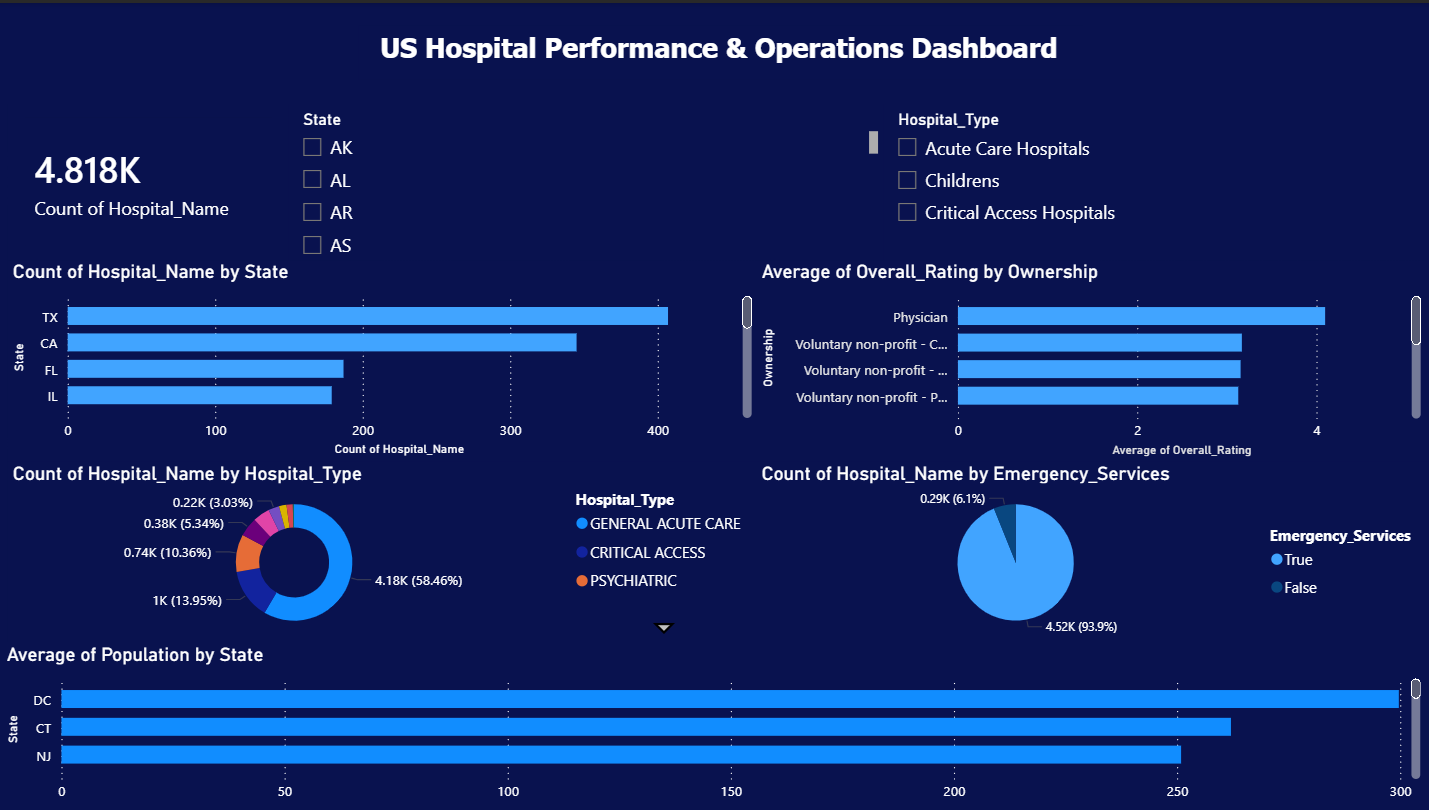

What the dashboard file says about the page in this screenshot:
{"tool":"powerbi","page":{"name":"Page 1","canvas":[1280,720],"ordinal":0},"visuals":[{"type":"cardVisual","fields":{"Data":["CountNonNull(general_info_cleaned.Hospital_Name)"]},"box":[11,90.6,251.1,138.6],"z":0},{"type":"actionButton","box":[0,0,100,40],"z":1000},{"type":"clusteredBarChart","fields":{"Category":["general_info_cleaned.State"],"Y":["CountNonNull(general_info_cleaned.Hospital_Name)"]},"box":[11,229.2,666.9,179.8],"z":2000},{"type":"donutChart","fields":{"Category":["locations_cleaned.Hospital_Type"],"Y":["CountNonNull(locations_cleaned.Hospital_Name)"]},"box":[11,408.9,666.9,160.5],"z":3000},{"type":"clusteredBarChart","fields":{"Category":["general_info_cleaned.Ownership"],"Y":["Avg(general_info_cleaned.Overall_Rating)"]},"box":[677.9,229.2,596.9,179.8],"z":4000},{"type":"pieChart","fields":{"Category":["general_info_cleaned.Emergency_Services"],"Y":["CountNonNull(general_info_cleaned.Hospital_Name)"]},"box":[677.9,408.9,602.4,160.5],"z":5000},{"type":"clusteredBarChart","fields":{"Category":["locations_cleaned.State"],"Y":["Avg(locations_cleaned.Population)"]},"box":[11,569.5,1269.3,150.9],"z":6000},{"type":"textbox","box":[323.8,20.6,644.9,48],"z":6001},{"type":"slicer","fields":{"Values":["general_info_cleaned.State"]},"box":[262.1,90.6,529.7,138.6],"z":6002},{"type":"slicer","fields":{"Values":["general_info_cleaned.Hospital_Type"]},"box":[791.8,90.6,483,138.6],"z":6003}]}

Visuals, with their boxes in screenshot pixels (x1, y1, x2, y2), scaled from the page's 1280x720 canvas onto the 1429x810 screenshot:
cardVisual - CountNonNull(general_info_cleaned.Hospital_Name): bbox=(12, 102, 293, 258)
actionButton: bbox=(0, 0, 112, 45)
clusteredBarChart - general_info_cleaned.State x CountNonNull(general_info_cleaned.Hospital_Name): bbox=(12, 258, 757, 460)
donutChart - locations_cleaned.Hospital_Type x CountNonNull(locations_cleaned.Hospital_Name): bbox=(12, 460, 757, 641)
clusteredBarChart - general_info_cleaned.Ownership x Avg(general_info_cleaned.Overall_Rating): bbox=(757, 258, 1423, 460)
pieChart - general_info_cleaned.Emergency_Services x CountNonNull(general_info_cleaned.Hospital_Name): bbox=(757, 460, 1428, 641)
clusteredBarChart - locations_cleaned.State x Avg(locations_cleaned.Population): bbox=(12, 641, 1428, 809)
textbox: bbox=(361, 23, 1081, 77)
slicer - general_info_cleaned.State: bbox=(293, 102, 884, 258)
slicer - general_info_cleaned.Hospital_Type: bbox=(884, 102, 1423, 258)
